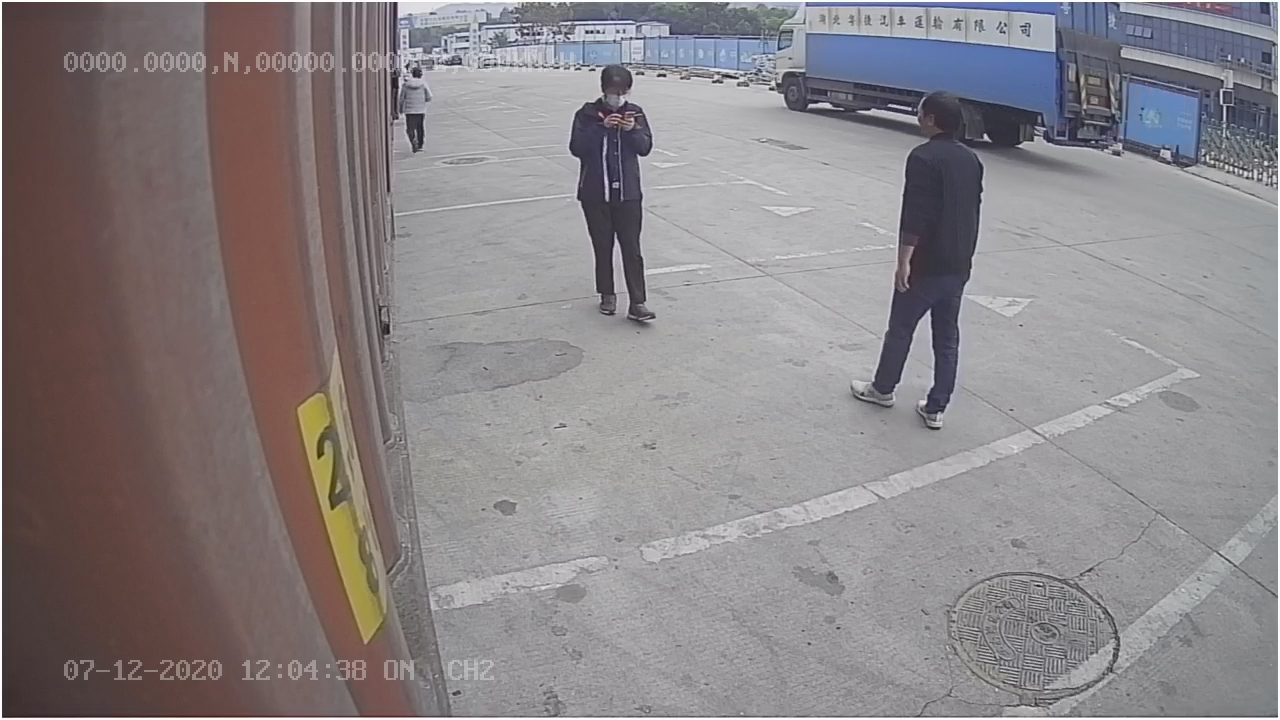person: (568, 62, 659, 330)
